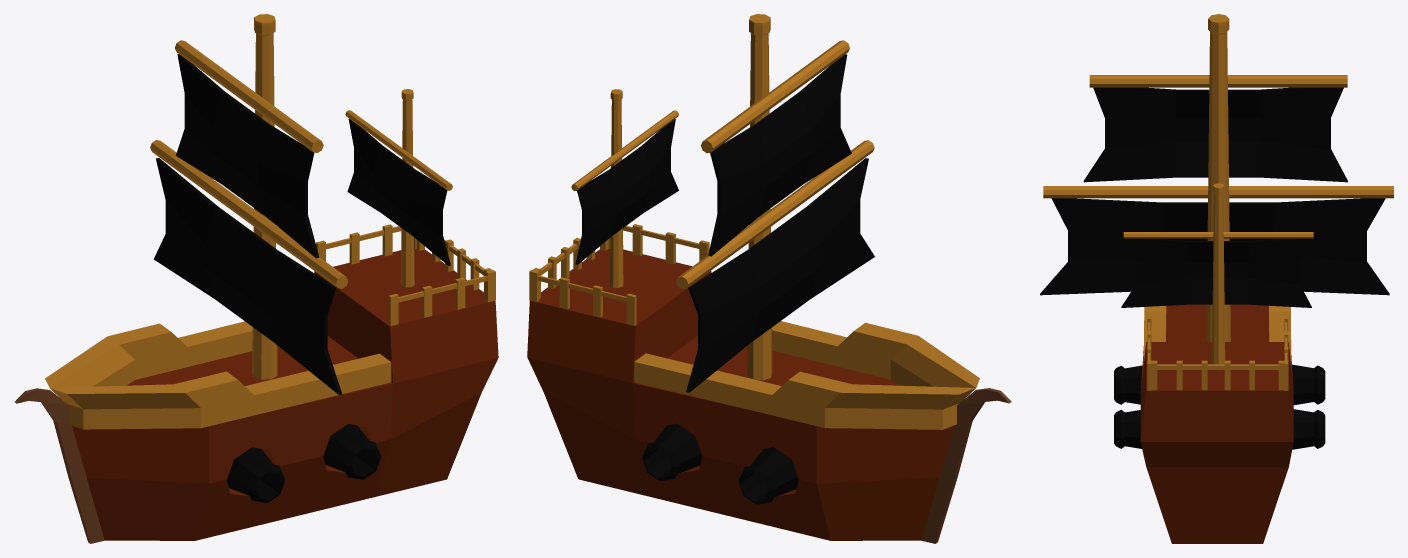
Rendered from корабль.fbx.
3 views of the same model, side by side, from view 1: azimuth 30°, elevation 25°; view 2: azimuth 150°, elevation 25°; view 3: azimuth 270°, elevation 25° (orthographic). The views are drawn at different scales.
Visible parts, largest first — view 1: Cube, Cube.002, Plane.001, Plane, Cylinder.002, Plane.002, Cube.008, Cylinder.003, Cylinder.005, Cylinder.006; view 2: Cube, Cube.002, Plane.001, Plane, Cylinder.002, Plane.002, Cube.008, Cylinder.003, Cylinder.008, Cylinder.007; view 3: Cube, Plane, Plane.001, Cylinder.002, Plane.002, Cylinder.003, Cube.008, Cube.002, Cylinder.008, Cylinder.007, Cylinder.005, Cylinder.006.
Boxes of the visible parts, x1,y1,x2,y2 form: Cube: (15,248,498,543); Cube.002: (45,321,391,429); Plane.001: (153,158,342,394); Plane: (176,54,319,258); Cylinder.002: (150,14,348,379); Plane.002: (347,119,450,265); Cube.008: (316,224,495,325); Cylinder.003: (345,89,452,287); Cylinder.005: (227,447,284,503); Cylinder.006: (323,423,380,479); Cube: (527,248,1011,543); Cube.002: (634,321,979,429); Plane.001: (686,158,874,392); Plane: (708,54,851,256); Cylinder.002: (676,14,874,380); Plane.002: (575,119,678,264); Cube.008: (529,224,709,325); Cylinder.003: (571,89,678,287); Cylinder.008: (738,447,798,504); Cylinder.007: (642,423,702,481); Cube: (1140,304,1293,543); Plane: (1083,87,1347,182); Plane.001: (1040,198,1389,295); Cylinder.002: (1043,14,1393,341); Plane.002: (1121,238,1311,307); Cylinder.003: (1123,183,1313,370); Cube.008: (1147,315,1288,390); Cube.002: (1143,305,1291,365); Cylinder.008: (1292,364,1325,405); Cylinder.007: (1292,409,1325,449); Cylinder.005: (1114,365,1142,404); Cylinder.006: (1114,409,1141,448).
Bounding box in the file's own units: 1759 × 1826 × 1291.
